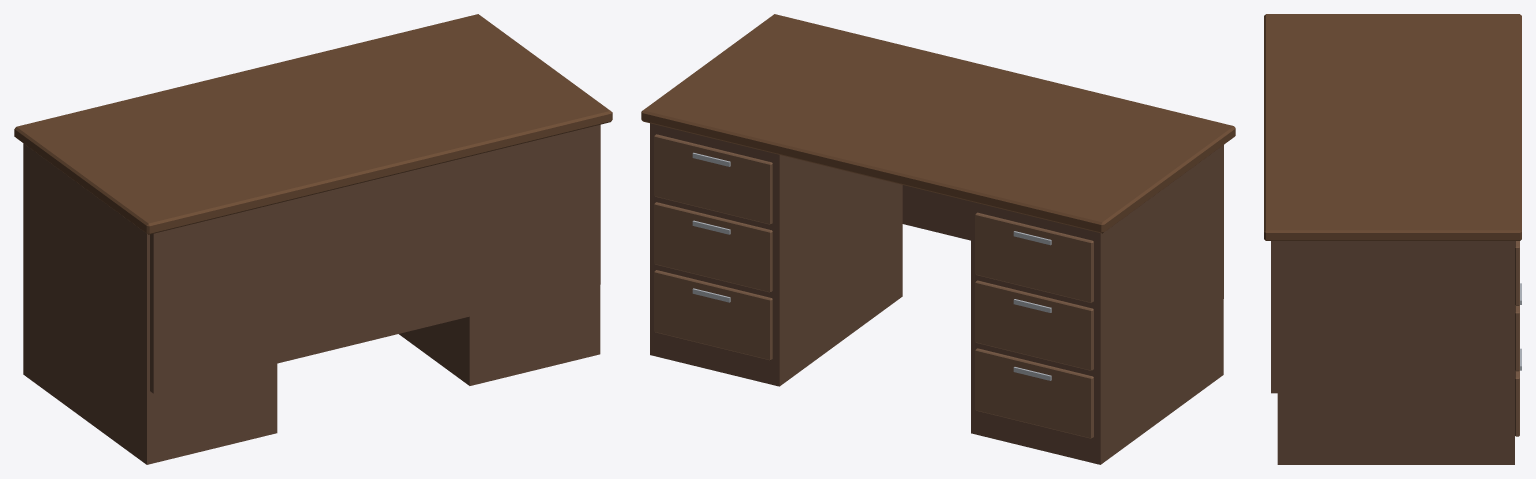
File: teacher_desk.glb
3 views of the same model, side by side, from view 1: azimuth 30°, elevation 25°; view 2: azimuth 150°, elevation 25°; view 3: azimuth 270°, elevation 25° (orthographic). The views are drawn at different scales.
Parts seen in each view (by area): view 1: teacher_desk; view 2: teacher_desk; view 3: teacher_desk.
Boxes of the visible parts, left/top/right/bottom form: teacher_desk: left=14, top=14, right=612, bottom=464; teacher_desk: left=641, top=14, right=1235, bottom=464; teacher_desk: left=1264, top=14, right=1521, bottom=464.
Bounding box in the file's own units: 1.5 × 0.76 × 0.75.
